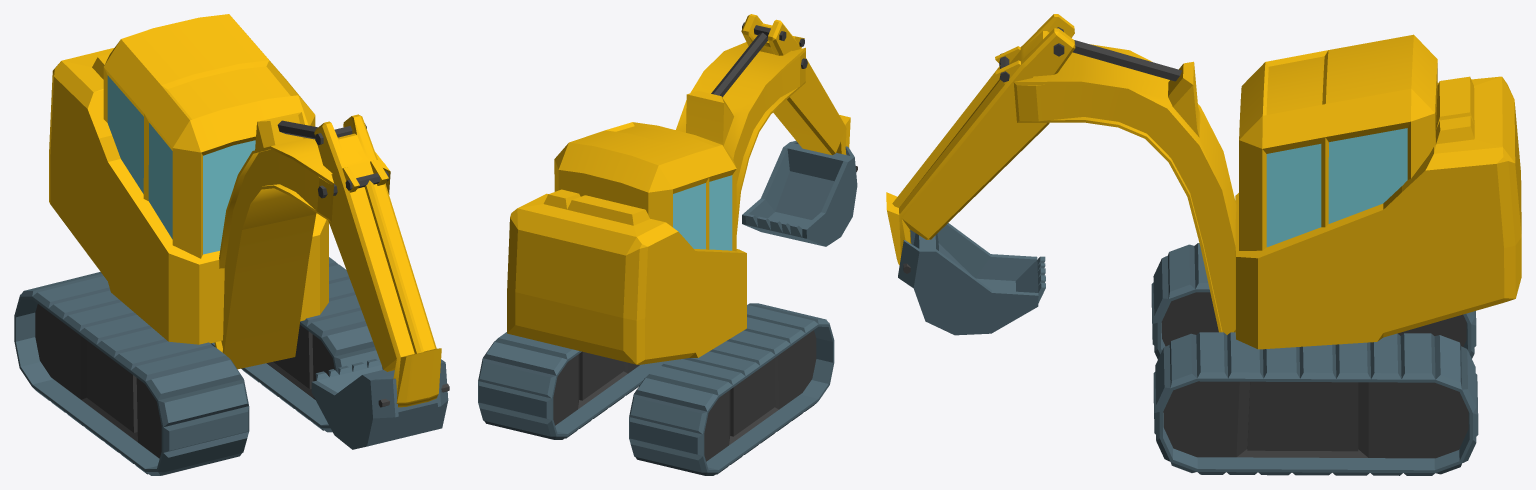
File: work_machine 1.fbx
3 views of the same model, side by side, from view 1: azimuth 30°, elevation 25°; view 2: azimuth 150°, elevation 25°; view 3: azimuth 270°, elevation 25° (orthographic). The views are drawn at different scales.
Parts seen in each view (by area): view 1: work_machine; view 2: work_machine; view 3: work_machine.
Part boxes in pixels (x1,y1,x2,y2): work_machine: (14, 14, 449, 475); work_machine: (478, 14, 857, 475); work_machine: (886, 14, 1521, 475).
Bounding box in the file's own units: 32.3 × 43.5 × 64.76.
